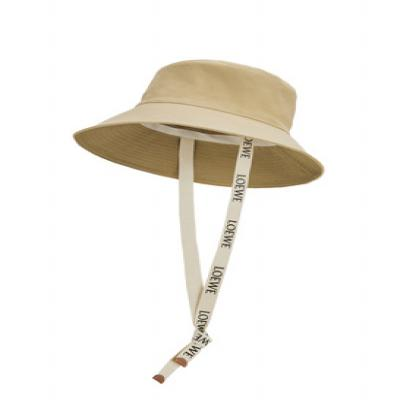hat: (57, 55, 330, 199)
